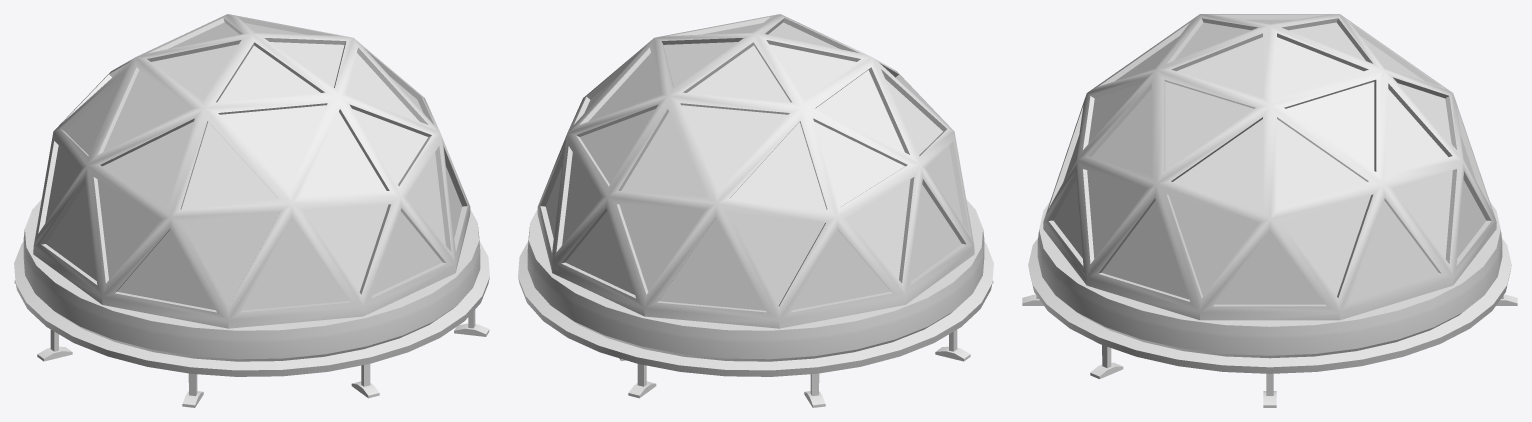
File: siege_works.glb
The picture shows the model from 3 angles, left to right: view 1: azimuth 30°, elevation 25°; view 2: azimuth 150°, elevation 25°; view 3: azimuth 270°, elevation 25°; orthographic projection.
Visible parts, largest first — view 1: Body; view 2: Body; view 3: Body.
Boxes of the visible parts, <box> form: Body: <box>14,14,489,407</box>; Body: <box>518,14,993,407</box>; Body: <box>1022,14,1517,407</box>.
Size of the model in its own units: 16 by 9.91 by 16.
Materials: 1 (1 with a texture image).
